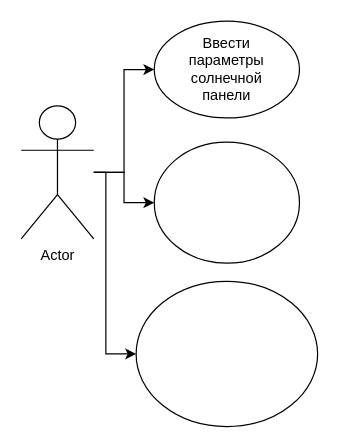
This 339x448 diagram has some shape labels left out. The shapes that lost their labels are listed below. From the top down, each one's centre as x and y in pixels, then its label:
(226,202): Задать положение солнечный панелей на карте
(226,353): Получить график выроботки энергии за неделю/месяц/год
